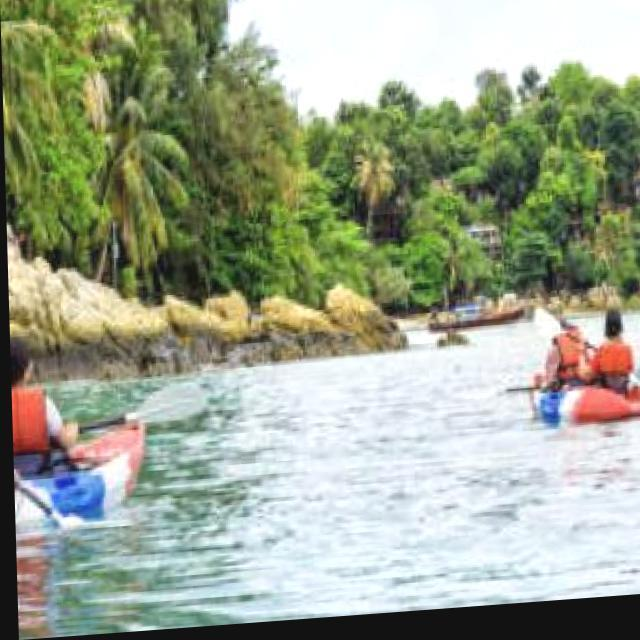kayak: (11, 415, 141, 524), (535, 392, 640, 431)
